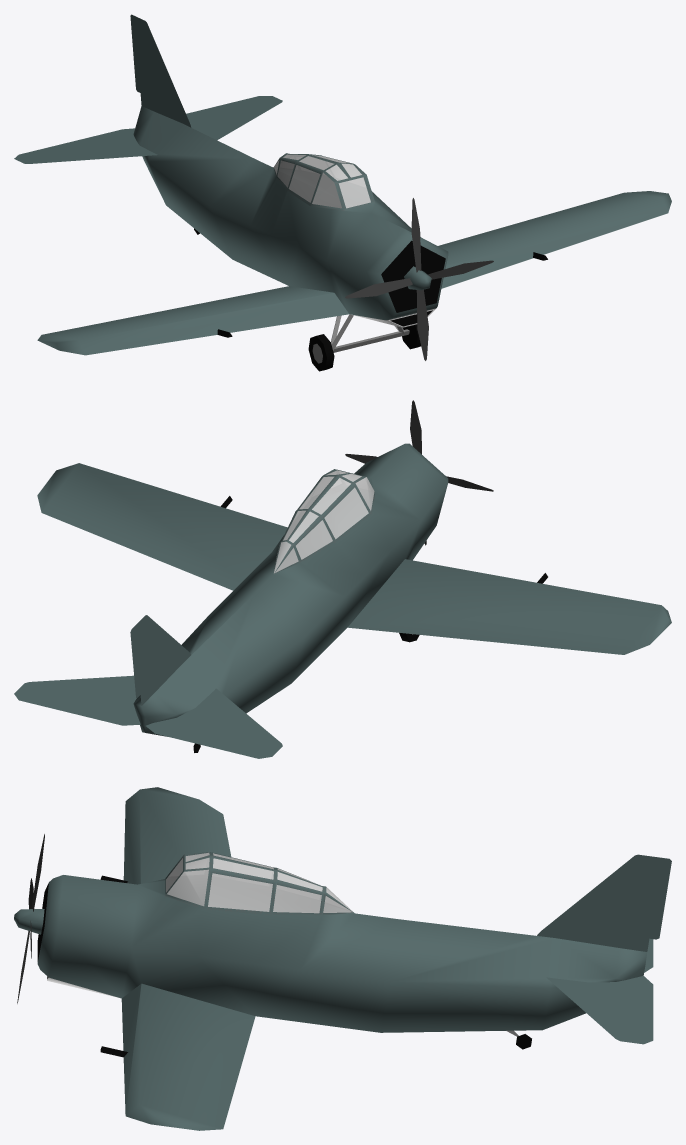
3 renders of one model, top to bottom at view 1: azimuth 30°, elevation 25°; view 2: azimuth 150°, elevation 25°; view 3: azimuth 270°, elevation 25°, orthographic. The views are drawn at different scales.
Visible parts, largest first — view 1: group_0 (×13); view 2: group_0 (×7); view 3: group_0 (×9).
Part boxes in pixels (x1=…): group_0 (×13): x1=14, y1=14, x2=671, y2=371; group_0 (×7): x1=14, y1=443, x2=671, y2=758; group_0 (×9): x1=14, y1=787, x2=671, y2=1130.
Bounding box in the file's own units: 169 × 142 × 51.56.
